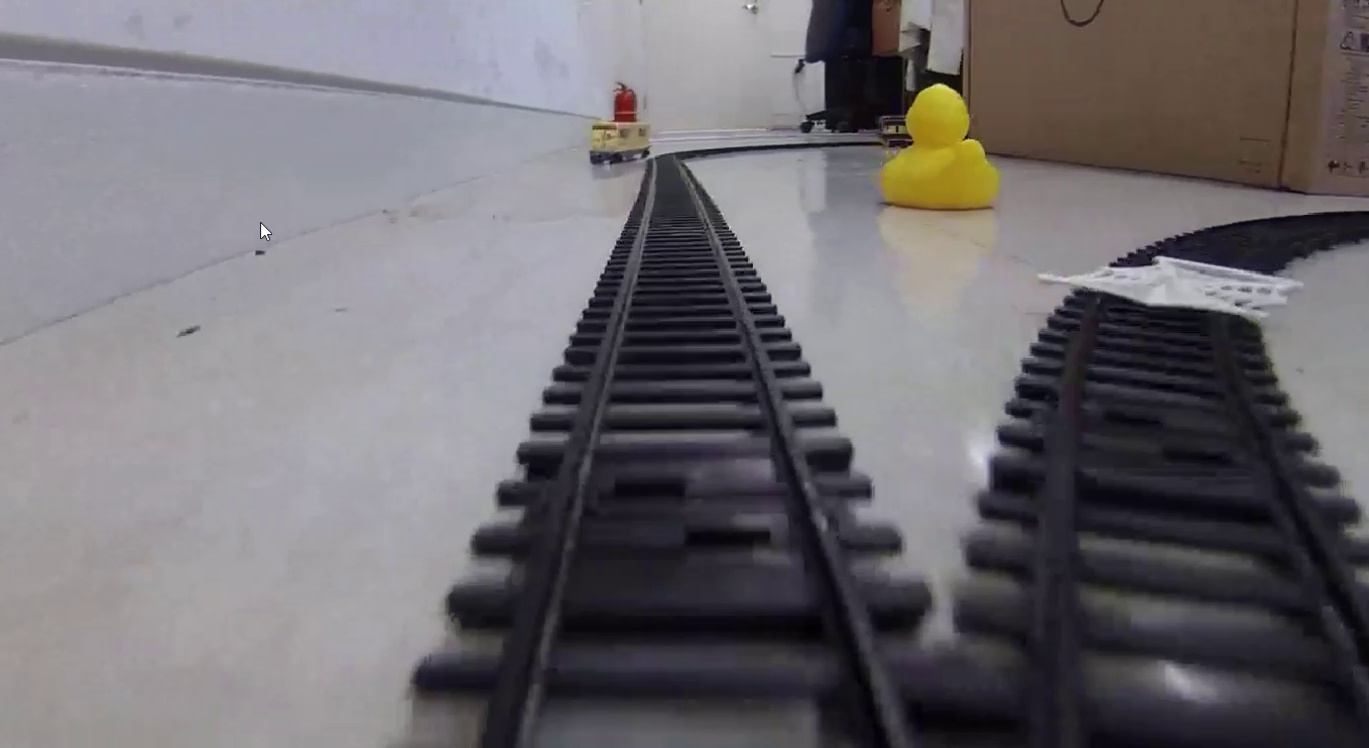web: (1039, 256, 1301, 323)
